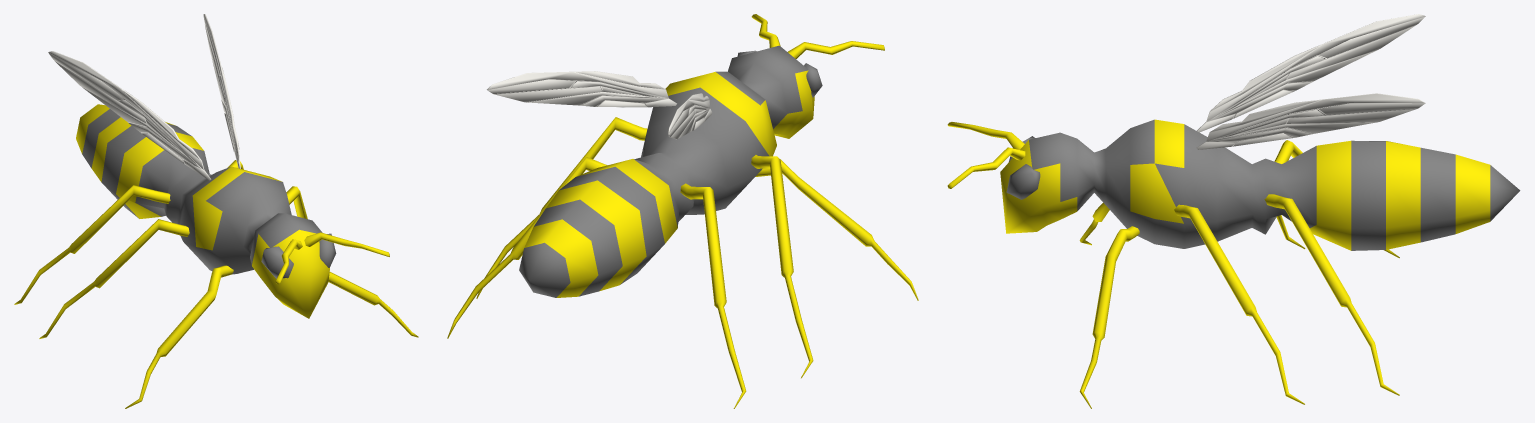
3 views of the same model, side by side, from view 1: azimuth 30°, elevation 25°; view 2: azimuth 150°, elevation 25°; view 3: azimuth 270°, elevation 25° (orthographic). The views are drawn at different scales.
Visible parts, largest first — view 1: Symmetry; view 2: Symmetry; view 3: Symmetry.
Boxes of the visible parts, left/top/right/bottom form: Symmetry: left=14, top=14, right=418, bottom=408; Symmetry: left=447, top=14, right=918, bottom=408; Symmetry: left=947, top=14, right=1520, bottom=408.
Size of the model in its own units: 373 by 287 by 550.
